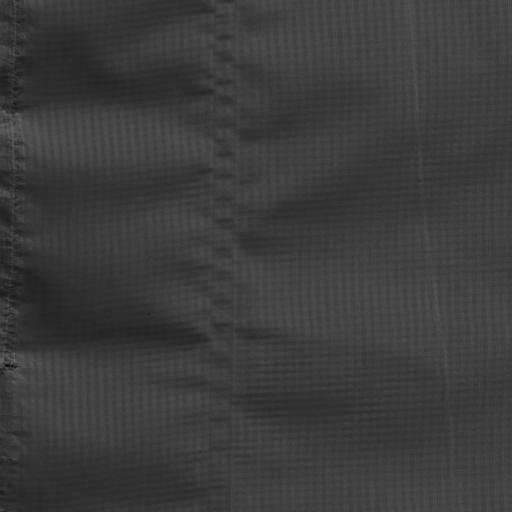defect: (227, 2, 242, 512), (207, 1, 215, 512)
